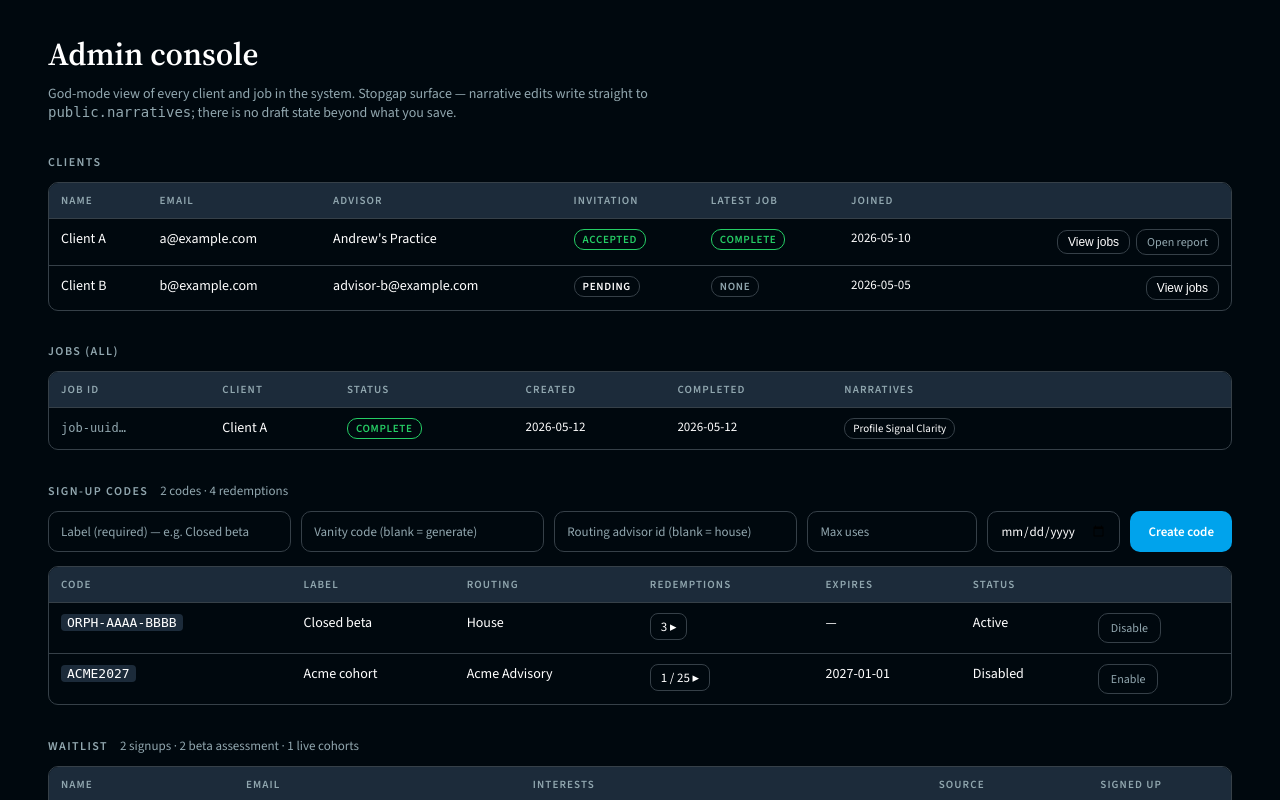
AdminPage › opens the narrative editor with loaded text when a chip is clicked
Click the button "Profile Signal Clarity" at [900, 428], box [844,418,955,439]
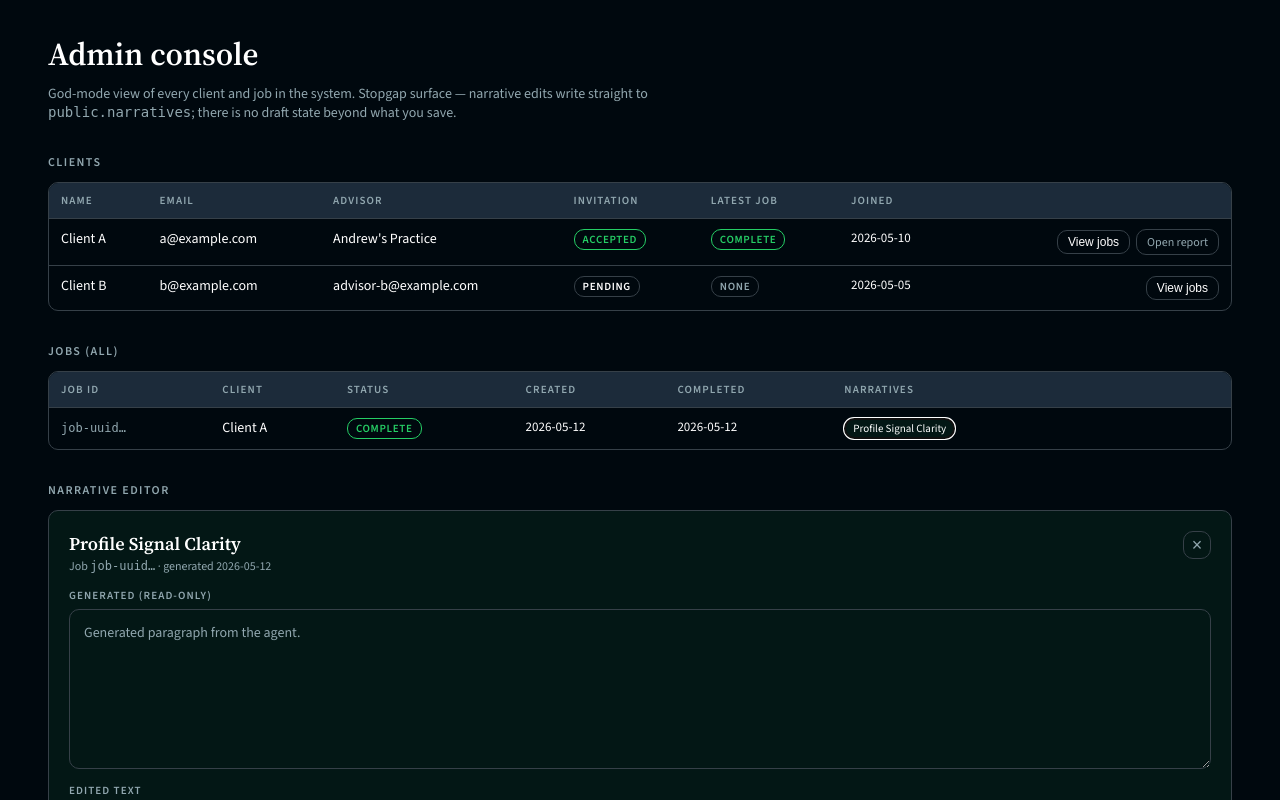
expect the heading "Narrative editor" is shown: met, box [48,482,170,498]
expect the text box showing "Generated paragraph from the agent." is shown: met, box [69,609,1211,769]
